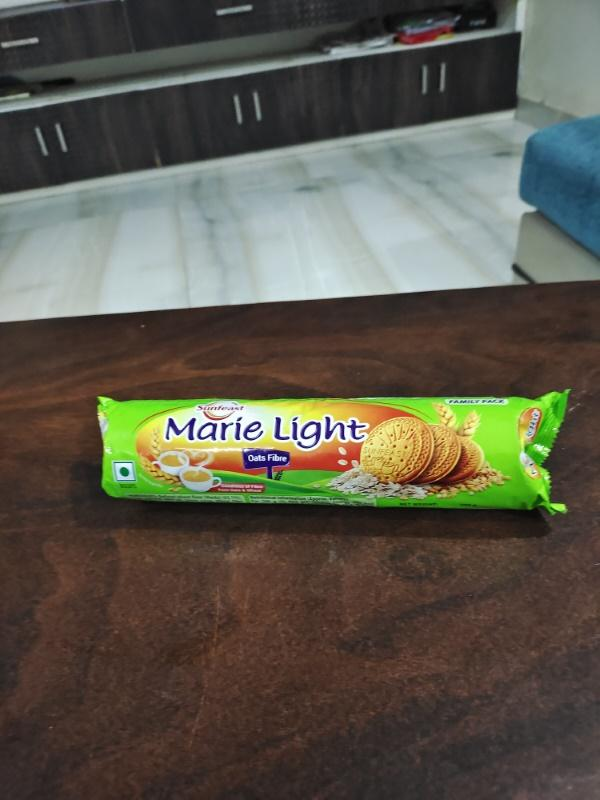MarieLight: (83, 380, 580, 533)
